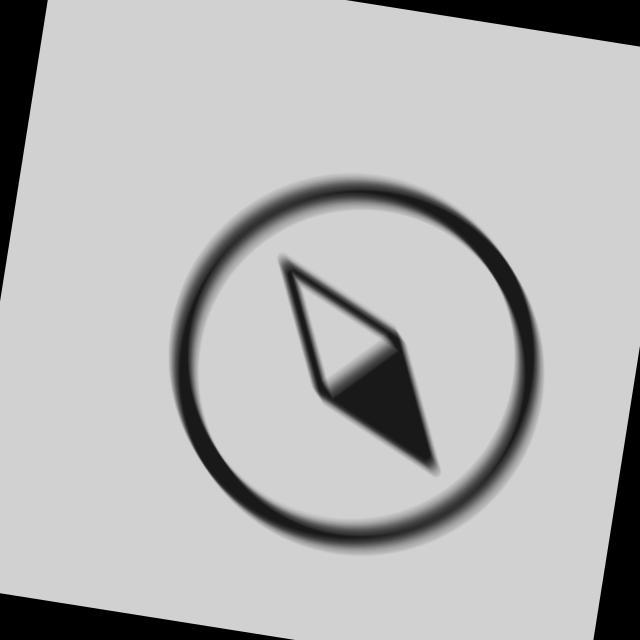compass: (134, 142, 576, 588)
